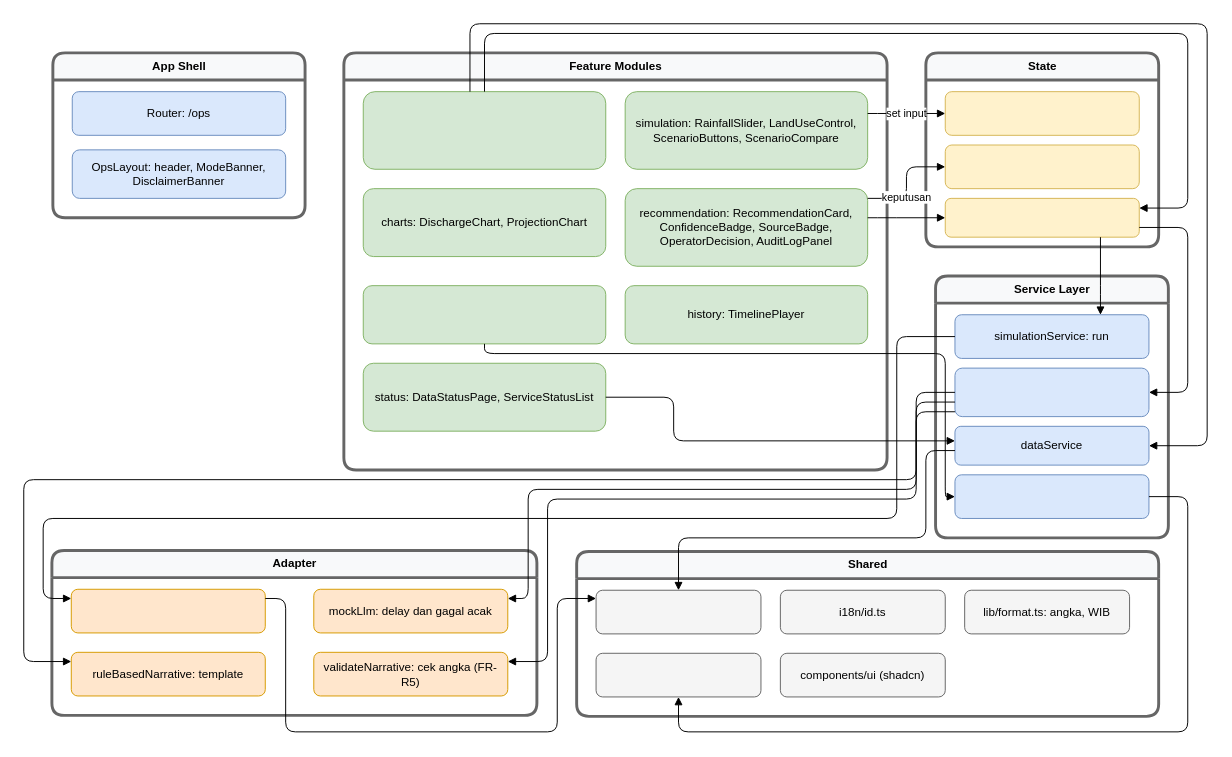
Image size: 1232x757. Some labels were removed from this diagram. Each missing label, with the centre of its shape:
alerts: AlertDraftPanel: (x=484, y=314)
draftService: susun teks peringatan: (x=1051, y=496)
lib/risk.ts: warna, label: (x=678, y=674)
map: MapView, NodeLayer, EdgeLayer, HeatmapLayer, MapLegend: (x=484, y=130)
mockSimulation (prototipe): (x=167, y=610)
narrativeService: llm, timeout, rule-based: (x=1051, y=392)
operatorStore (Zustand): (x=1041, y=166)
schemas (Zod): (x=678, y=611)
simulationStore (Zustand): (x=1041, y=113)
TanStack Query: hasil dan narasi: (x=1041, y=217)
